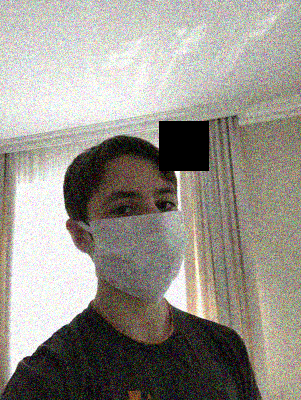with_mask: (86, 177, 188, 305)
